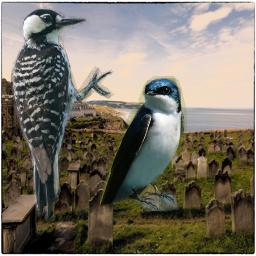Swallow: (100, 76, 187, 211)
Woodpecker: (8, 7, 116, 222)
